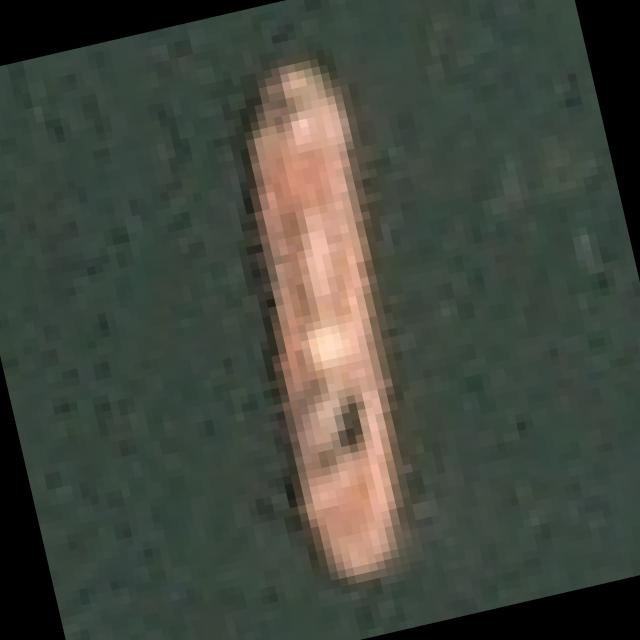ship: (162, 29, 516, 598)
